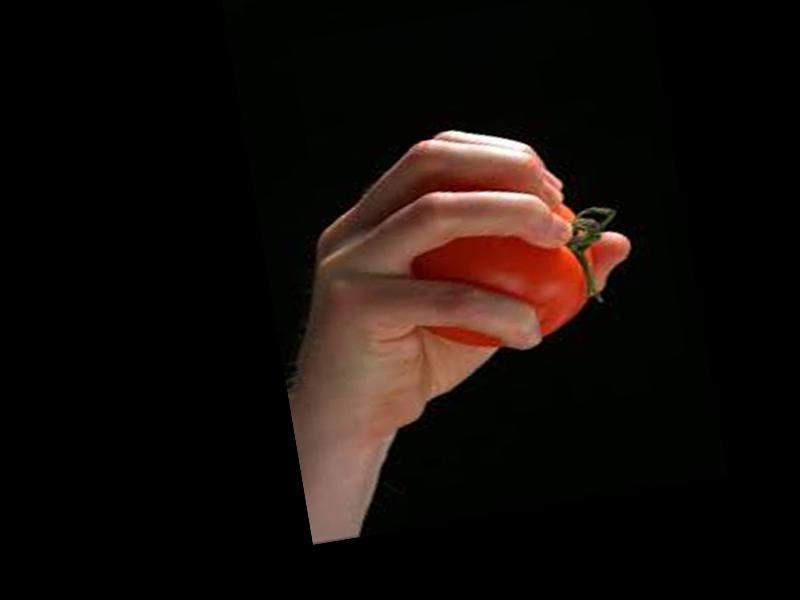Tomato: (399, 199, 596, 359)
